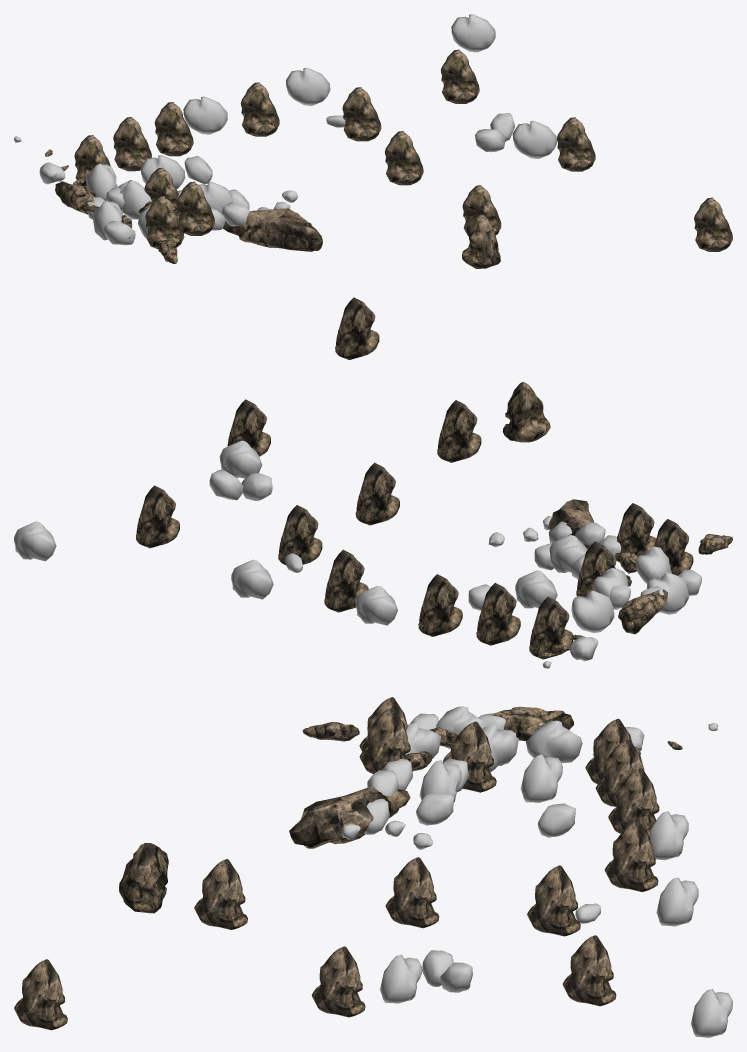
File: StoneValleyStones.fbx
The picture shows the model from 3 angles, top to bottom: view 1: azimuth 30°, elevation 25°; view 2: azimuth 150°, elevation 25°; view 3: azimuth 270°, elevation 25°; orthographic projection. The views are drawn at different scales.
Parts seen in each view (by area): view 1: RHEF_RockMediumA_Mobile; view 2: RHEF_RockMediumA_Mobile; view 3: RHEF_RockMediumA_Mobile.
Part boxes in pixels (x1,y1,x2,y2): RHEF_RockMediumA_Mobile: [14, 14, 732, 268]; RHEF_RockMediumA_Mobile: [14, 297, 732, 668]; RHEF_RockMediumA_Mobile: [14, 697, 732, 1037].
Size of the model in its own units: 46038 by 6157 by 45103.
